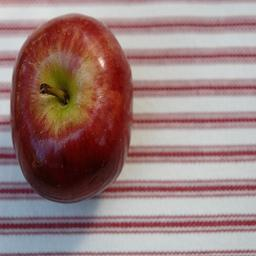apple: (7, 12, 135, 204)
